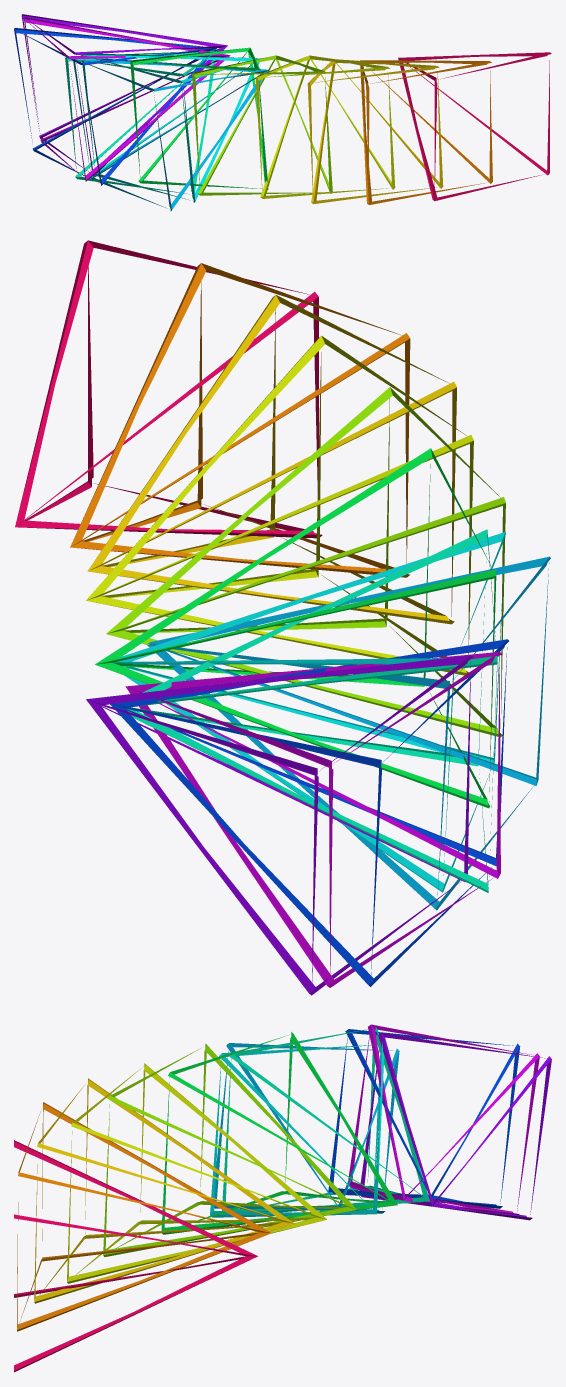
Rendered from glbscene_92.2_All_maskbFalse_maskwFalse_camTrue_skyFalse_predDepthmap_and_Camera_Branch.glb.
3 views of the same model, one above another, from view 1: azimuth 30°, elevation 25°; view 2: azimuth 150°, elevation 25°; view 3: azimuth 270°, elevation 25° (orthographic). The views are drawn at different scales.
Parts seen in each view (by area): view 1: world; view 2: world; view 3: world.
Boxes of the visible parts, x1,y1,x2,y2 form: world: (14,14,551,210); world: (15,240,550,995); world: (14,1024,551,1372).
Bounding box in the file's own units: 0.3307 × 0.1467 × 0.3426.
